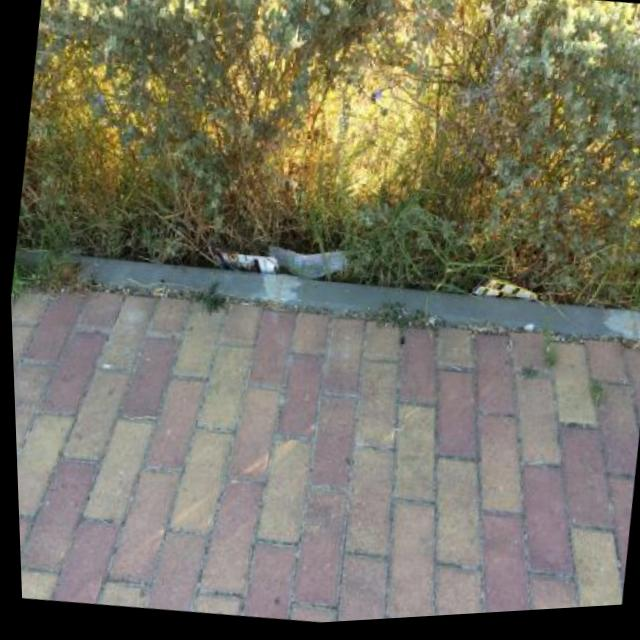paper: (264, 240, 350, 287), (205, 241, 283, 280), (470, 273, 540, 305)
